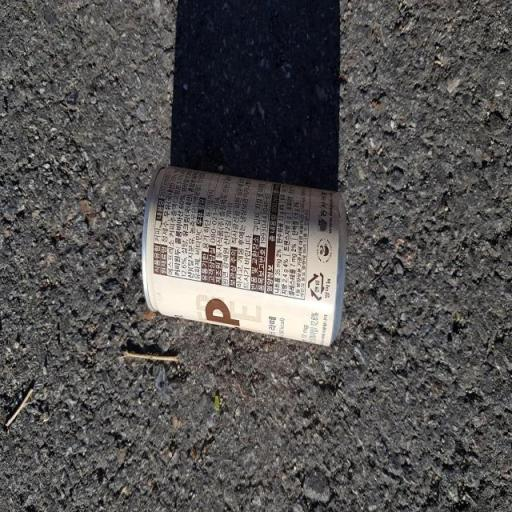metal: (126, 156, 363, 362)
